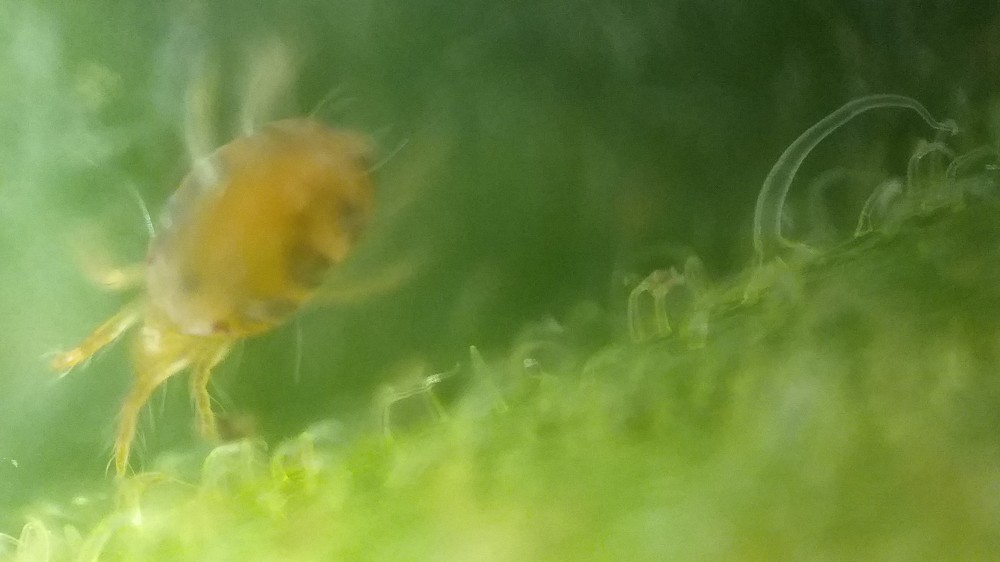Aracnido Rojo: (19, 60, 443, 488)
